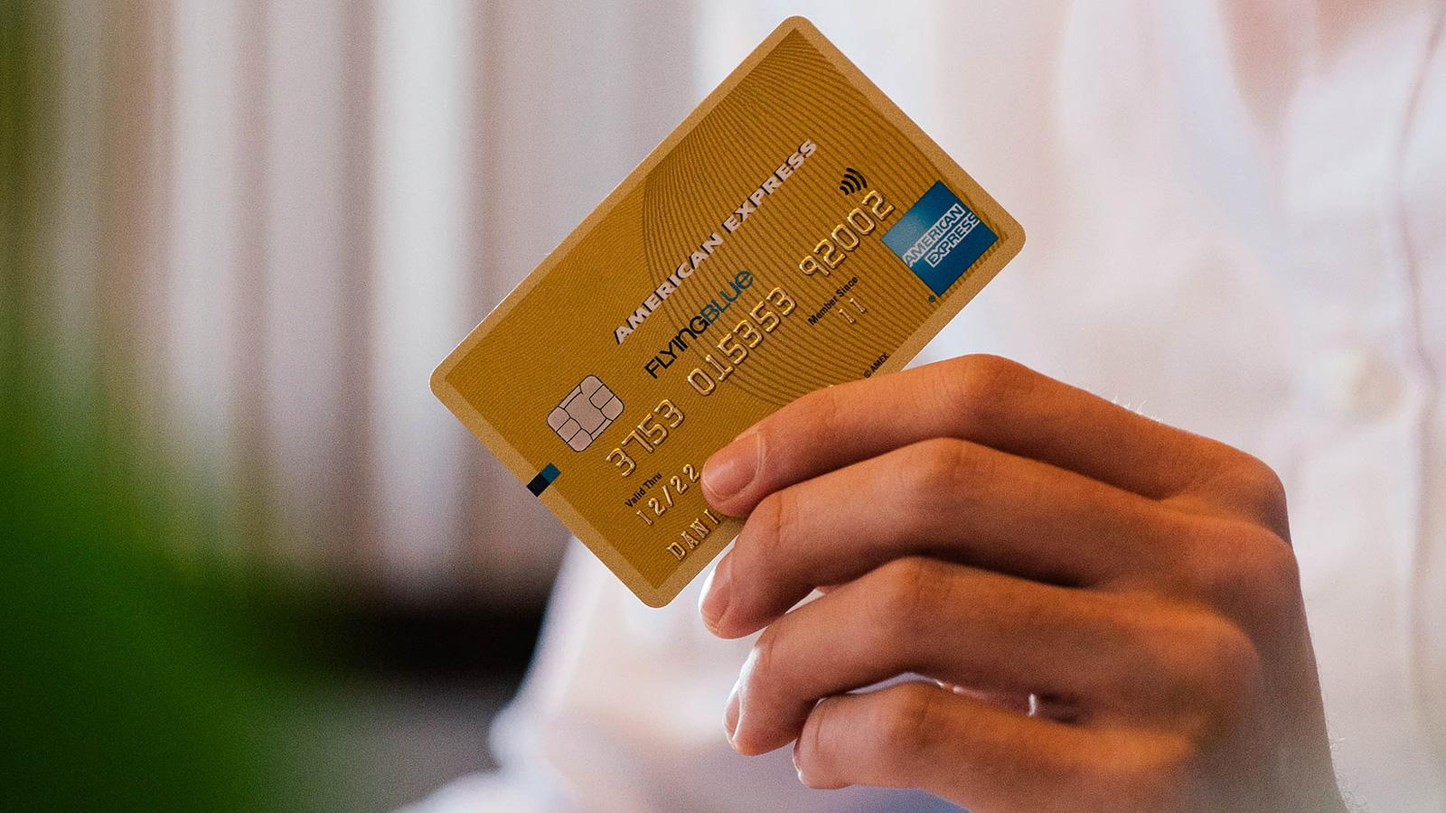Credit_card: (432, 18, 1023, 606)
